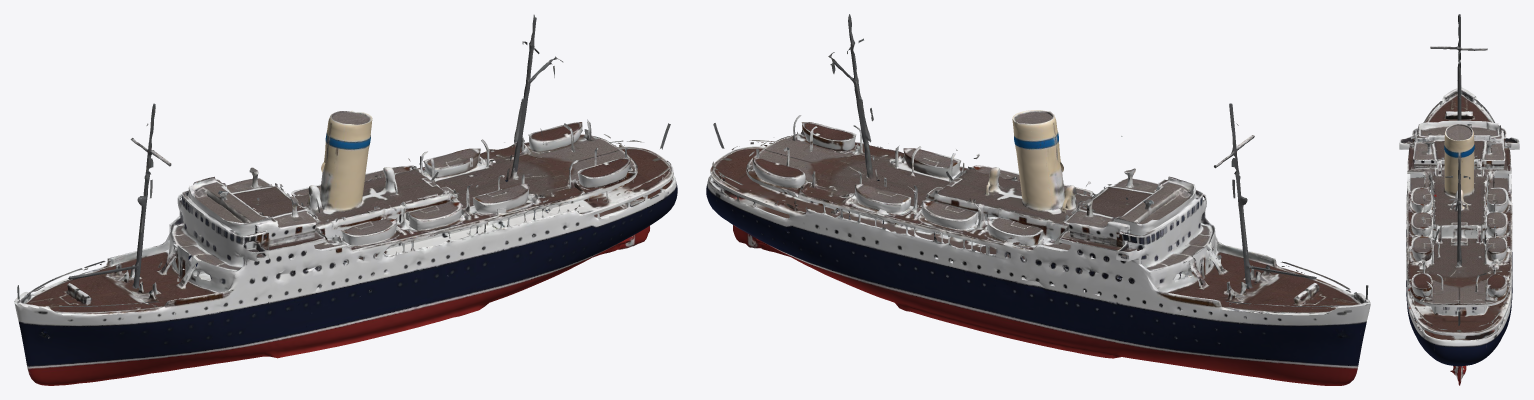
File: ship.glb
3 renders of one model, left to right at view 1: azimuth 30°, elevation 25°; view 2: azimuth 150°, elevation 25°; view 3: azimuth 270°, elevation 25°, orthographic. The views are drawn at different scales.
Size of the model in its own units: 1.9 by 0.7198 by 0.4034.
Materials: 1 (1 with a texture image).
